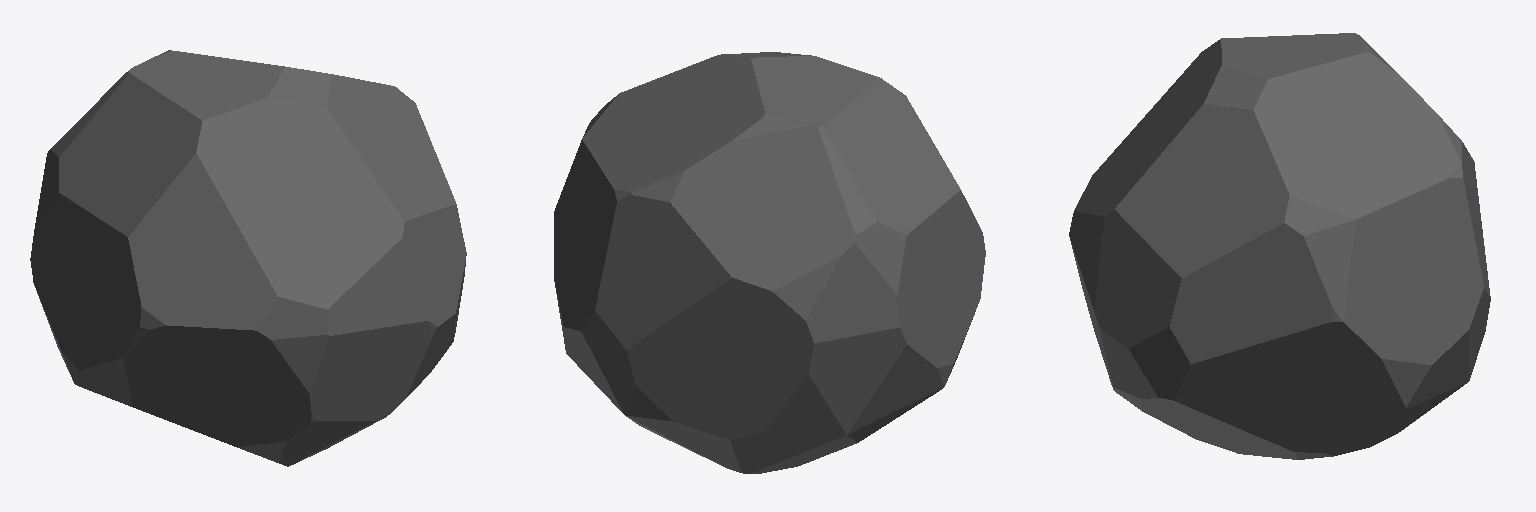
3 renders of one model, left to right at view 1: azimuth 30°, elevation 25°; view 2: azimuth 150°, elevation 25°; view 3: azimuth 270°, elevation 25°, orthographic.
Visible parts, largest first — view 1: ICO球; view 2: ICO球; view 3: ICO球.
Part boxes in pixels (left/top/right/bottom): ICO球: left=30, top=50, right=466, bottom=466; ICO球: left=554, top=52, right=985, bottom=473; ICO球: left=1069, top=33, right=1490, bottom=459.
Size of the model in its own units: 3.45 by 3.4 by 3.46.
Materials: 1 (1 with a texture image).